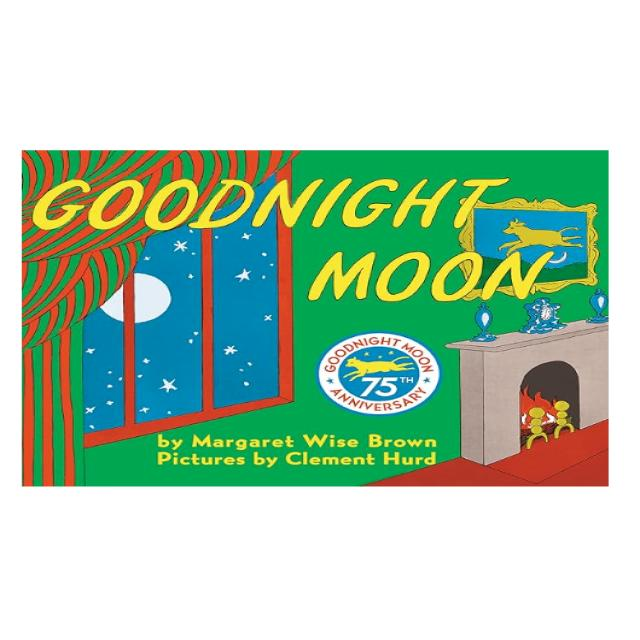titles-or-authors: (26, 168, 563, 311), (181, 430, 445, 450)
